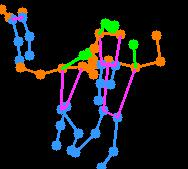normal: (86, 14, 128, 114)
